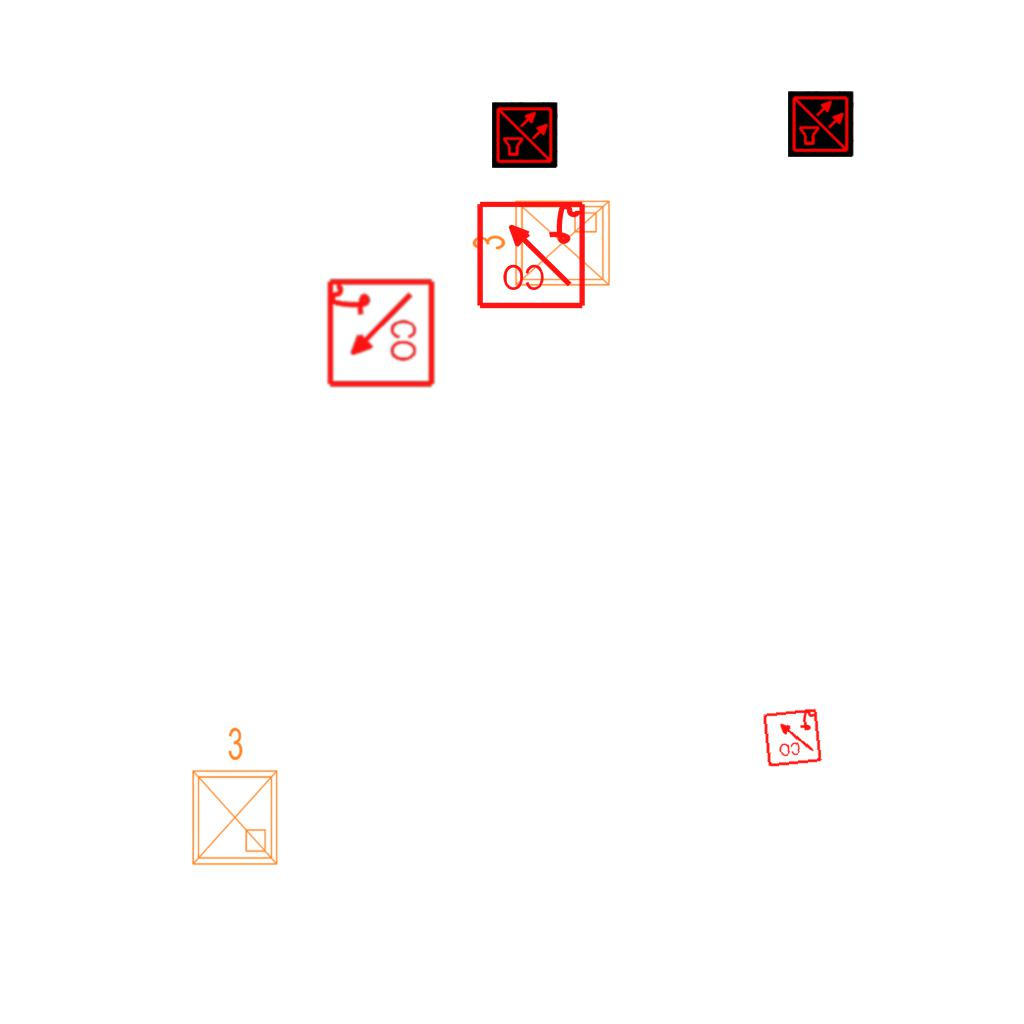Einbaudownlights_LED_Konferenzraeume: (181, 722, 285, 872), (467, 193, 617, 297)
OKW_Multisensormelder_(Kombination_optischer_Rauch-Kahlenmonoxid_Waerme-Melder): (492, 102, 558, 168), (788, 91, 854, 157)
ROA_Rauchmelder_optisch_mit_Signalgeber_(Sockelsirene): (323, 277, 436, 390), (474, 197, 587, 310), (761, 706, 823, 768)
